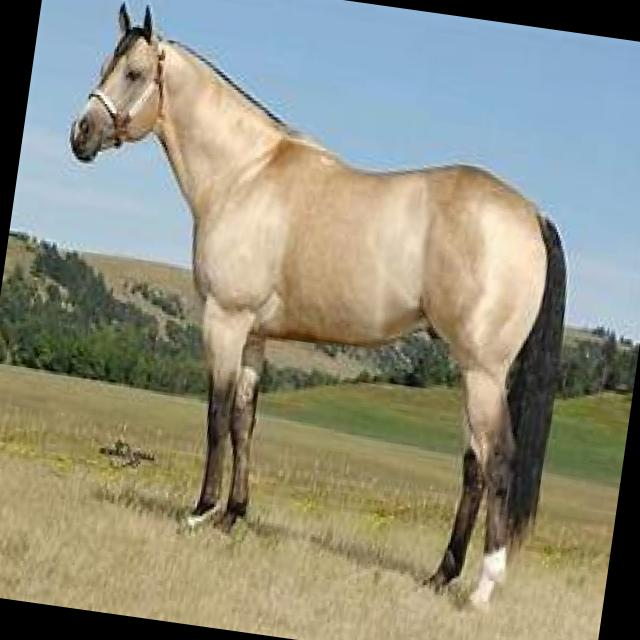animal: (12, 0, 605, 619)
